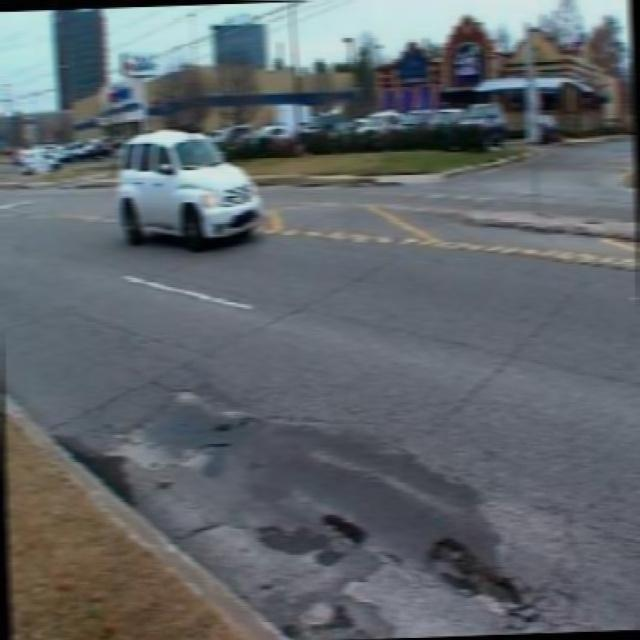Pothole: (410, 525, 554, 621), (310, 504, 366, 556), (208, 401, 257, 439), (196, 441, 238, 451)
